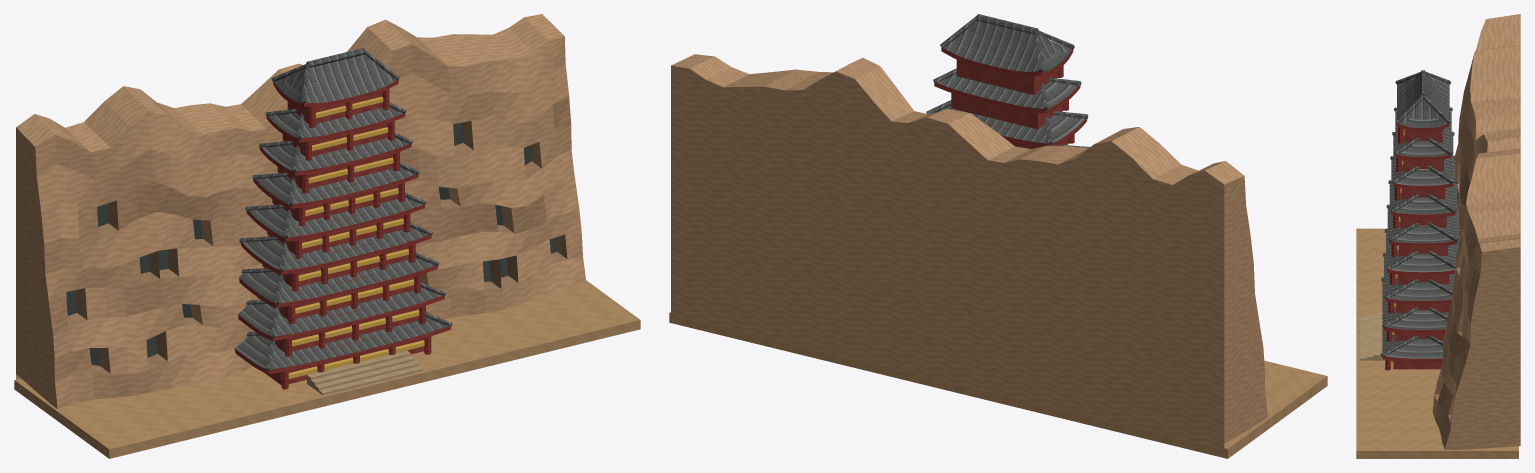
Rendered from mogao.glb.
The picture shows the model from 3 angles, left to right: view 1: azimuth 30°, elevation 25°; view 2: azimuth 150°, elevation 25°; view 3: azimuth 270°, elevation 25°; orthographic projection. The views are drawn at different scales.
Parts seen in each view (by area): view 1: 敦煌莫高窟; view 2: 敦煌莫高窟; view 3: 敦煌莫高窟.
Boxes of the visible parts, <box> form: 敦煌莫高窟: <box>14,14,640,458</box>; 敦煌莫高窟: <box>669,14,1327,458</box>; 敦煌莫高窟: <box>1356,14,1520,458</box>.
Bounding box in the file's own units: 10.6 × 5.91 × 3.31.
10 materials, 10 textured.
